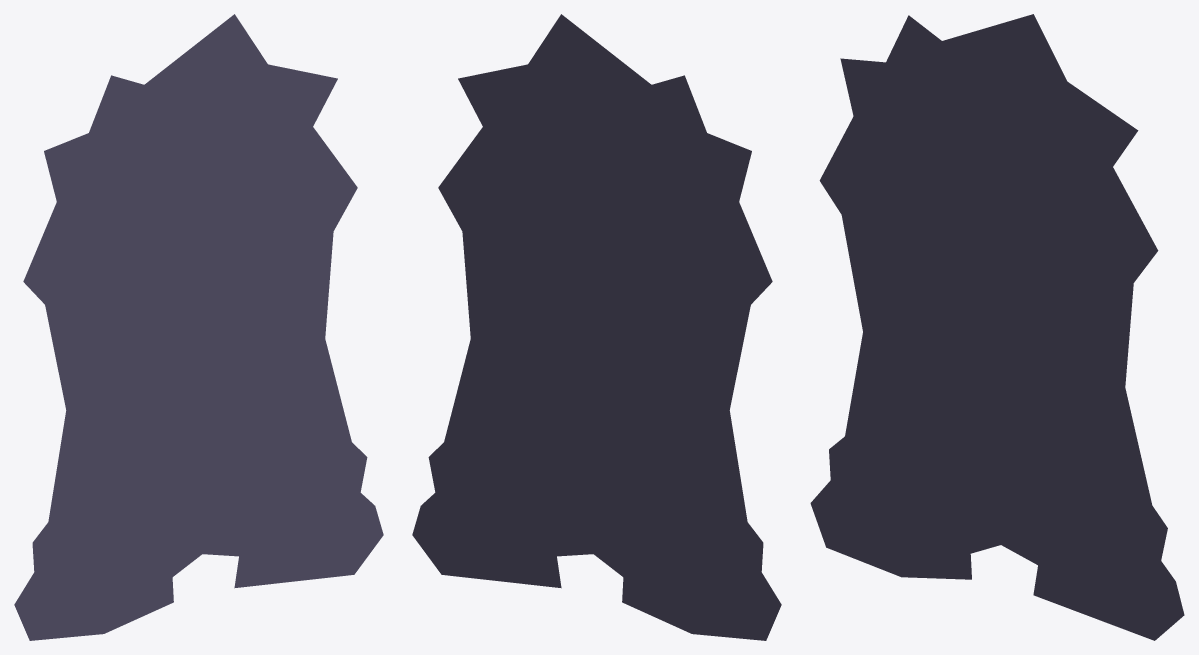
File: yetiBodySilhouette.glb
3 renders of one model, left to right at view 1: azimuth 30°, elevation 25°; view 2: azimuth 150°, elevation 25°; view 3: azimuth 330°, elevation 25°, orthographic.
Parts seen in each view (by area): view 1: yetiBodySilhouette; view 2: yetiBodySilhouette; view 3: yetiBodySilhouette.
Boxes of the visible parts, bbox=[...] form: yetiBodySilhouette: bbox=[14, 14, 383, 640]; yetiBodySilhouette: bbox=[412, 14, 781, 640]; yetiBodySilhouette: bbox=[810, 14, 1184, 640].
Bounding box in the file's own units: 0.5651 × 0.8623 × 0.
